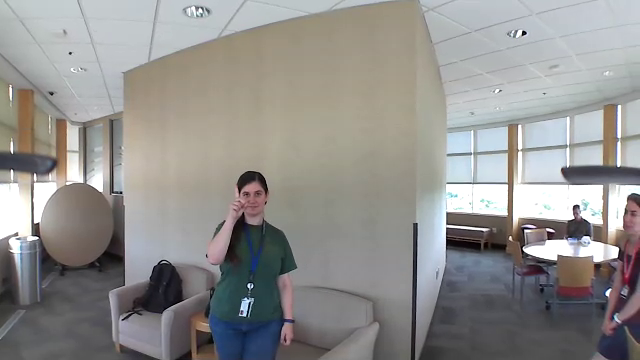up: (224, 183, 252, 221)
